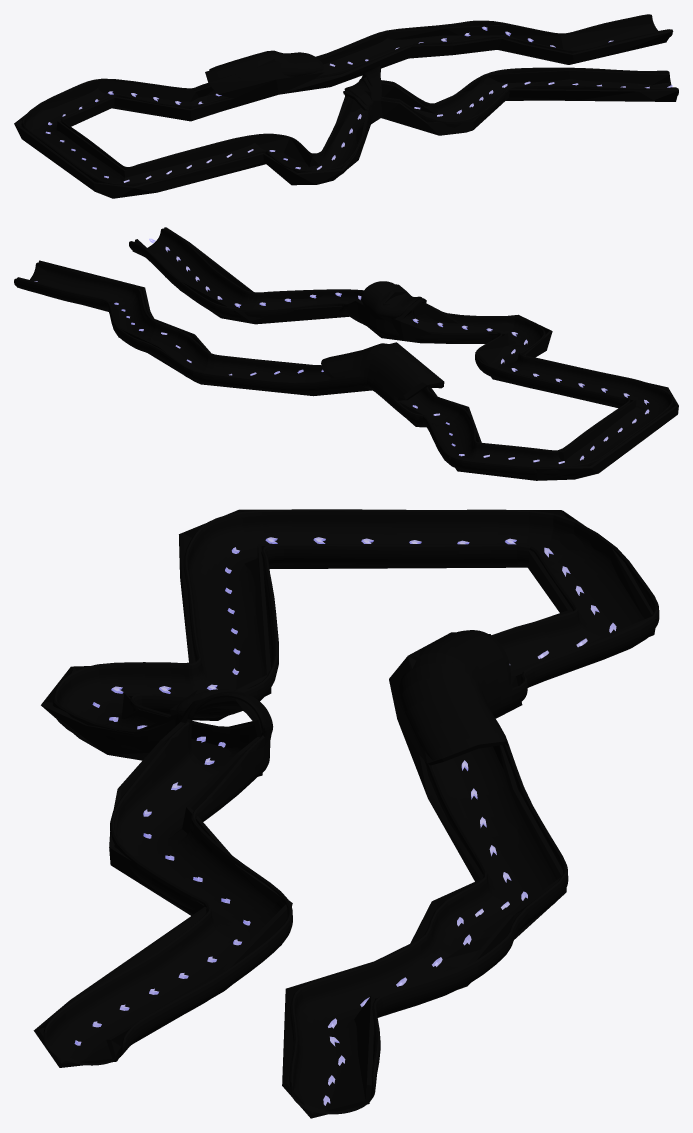
Rendered from space_course_3.glb.
3 renders of one model, top to bottom at view 1: azimuth 30°, elevation 25°; view 2: azimuth 150°, elevation 25°; view 3: azimuth 270°, elevation 25°, orthographic. The views are drawn at different scales.
Parts seen in each view (by area): view 1: CourseFloor_Phys2, CourseFloor2; view 2: CourseFloor2, CourseFloor_Phys2; view 3: CourseFloor2, CourseFloor_Phys2.
Part boxes in pixels (x1,y1,x2,y2): CourseFloor_Phys2: (14,15,678,198); CourseFloor2: (21,14,678,186); CourseFloor2: (14,228,673,477); CourseFloor_Phys2: (17,227,678,480); CourseFloor2: (43,509,659,1114); CourseFloor_Phys2: (33,509,656,1118).
Bounding box in the file's own units: 18.29 × 1.87 × 8.37.
Materials: 2 (1 with a texture image).
